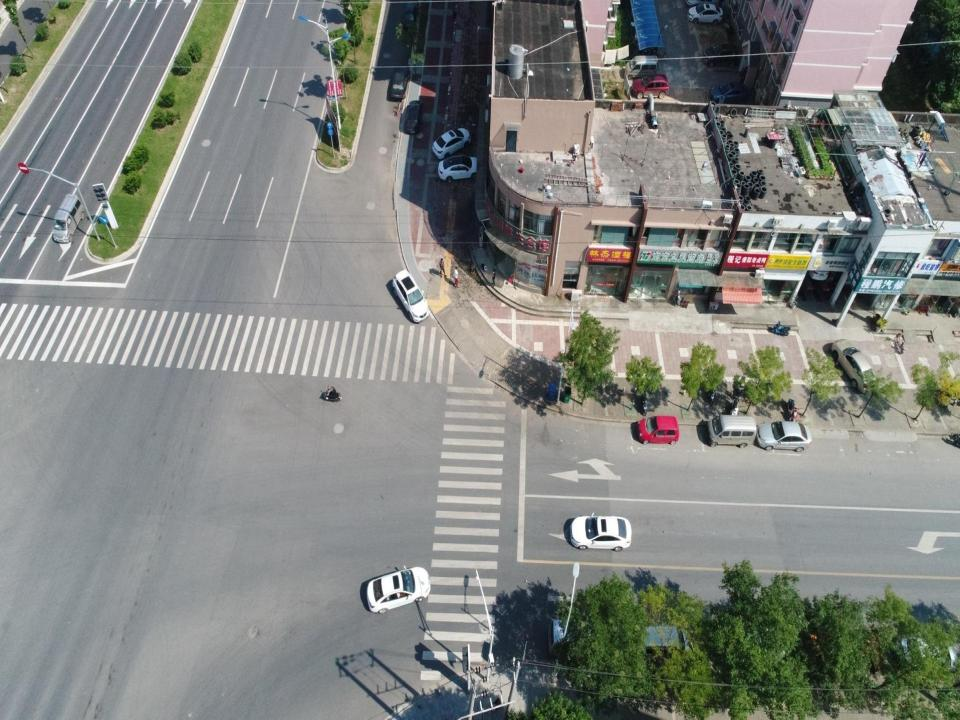car: (366, 565, 431, 615), (831, 338, 879, 395), (569, 511, 632, 552), (392, 268, 430, 323), (756, 420, 812, 454), (437, 153, 482, 184), (636, 414, 679, 446), (431, 127, 471, 160), (631, 74, 670, 100), (703, 42, 741, 68), (686, 2, 724, 26), (710, 81, 750, 103), (389, 62, 409, 100), (404, 100, 423, 136), (402, 1, 419, 30)
van: (548, 617, 616, 657), (634, 625, 694, 661), (52, 192, 85, 244), (708, 414, 757, 449), (626, 54, 659, 80)
